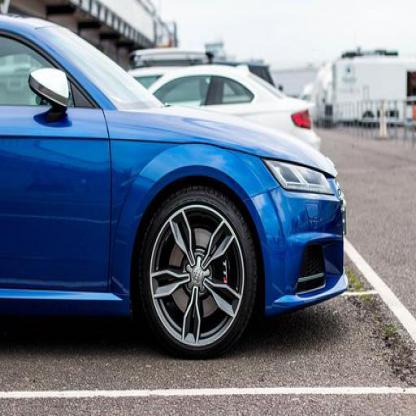Tire: (138, 181, 260, 360)
